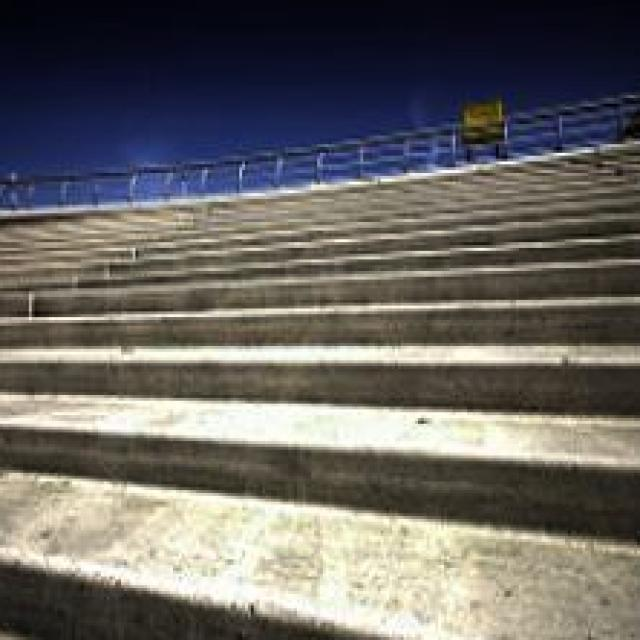upstair: (33, 206, 612, 540)
